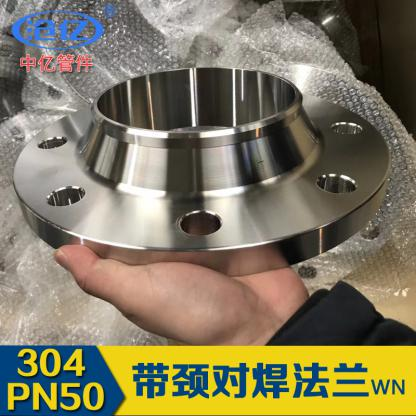FOD: (8, 57, 399, 282)
